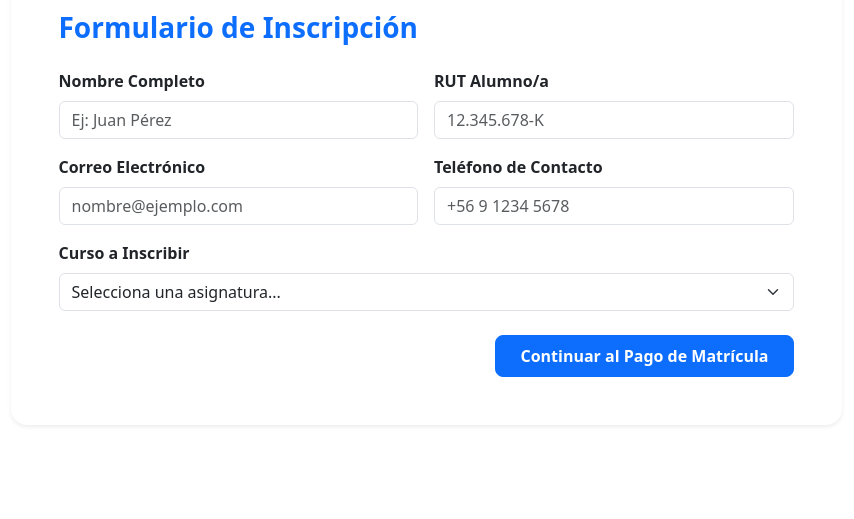
Test: Suite de 10 Pruebas Unitarias - EducaPro (Vitest + React Testing Library) › 6. Debe activar la validación visual e impedir el envío si los campos obligatorios están vacíos
Click the button "Continuar al Pago de Matrícula" at (644, 356), box 496,335 -> 794,377
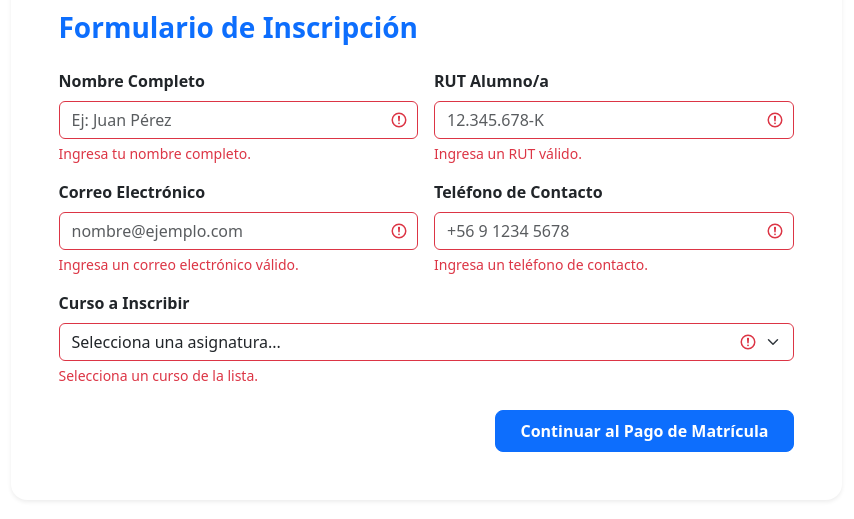
Now the text "Ingresa tu nombre completo." is shown, box 58,144 -> 251,163
Now the text "Ingresa un RUT válido." is shown, box 434,144 -> 582,163
